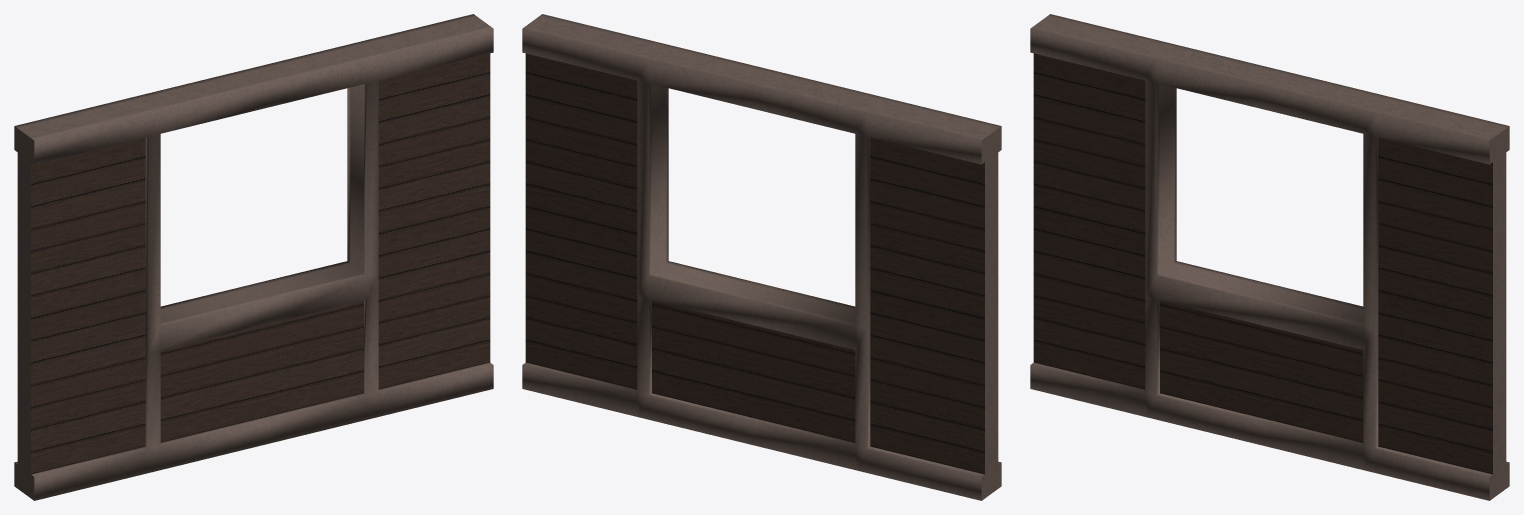
File: Wall_4x3_A.glb
The picture shows the model from 3 angles, left to right: view 1: azimuth 30°, elevation 25°; view 2: azimuth 150°, elevation 25°; view 3: azimuth 330°, elevation 25°; orthographic projection.
Visible parts, largest first — view 1: Wall_4x3_A.001; view 2: Wall_4x3_A.001; view 3: Wall_4x3_A.001.
Boxes of the visible parts, x1=… form: Wall_4x3_A.001: x1=14, y1=14, x2=493, y2=500; Wall_4x3_A.001: x1=522, y1=14, x2=1001, y2=500; Wall_4x3_A.001: x1=1030, y1=14, x2=1509, y2=500.
Bounding box in the file's own units: 4 × 3 × 0.3.
Materials: 1 (1 with a texture image).
